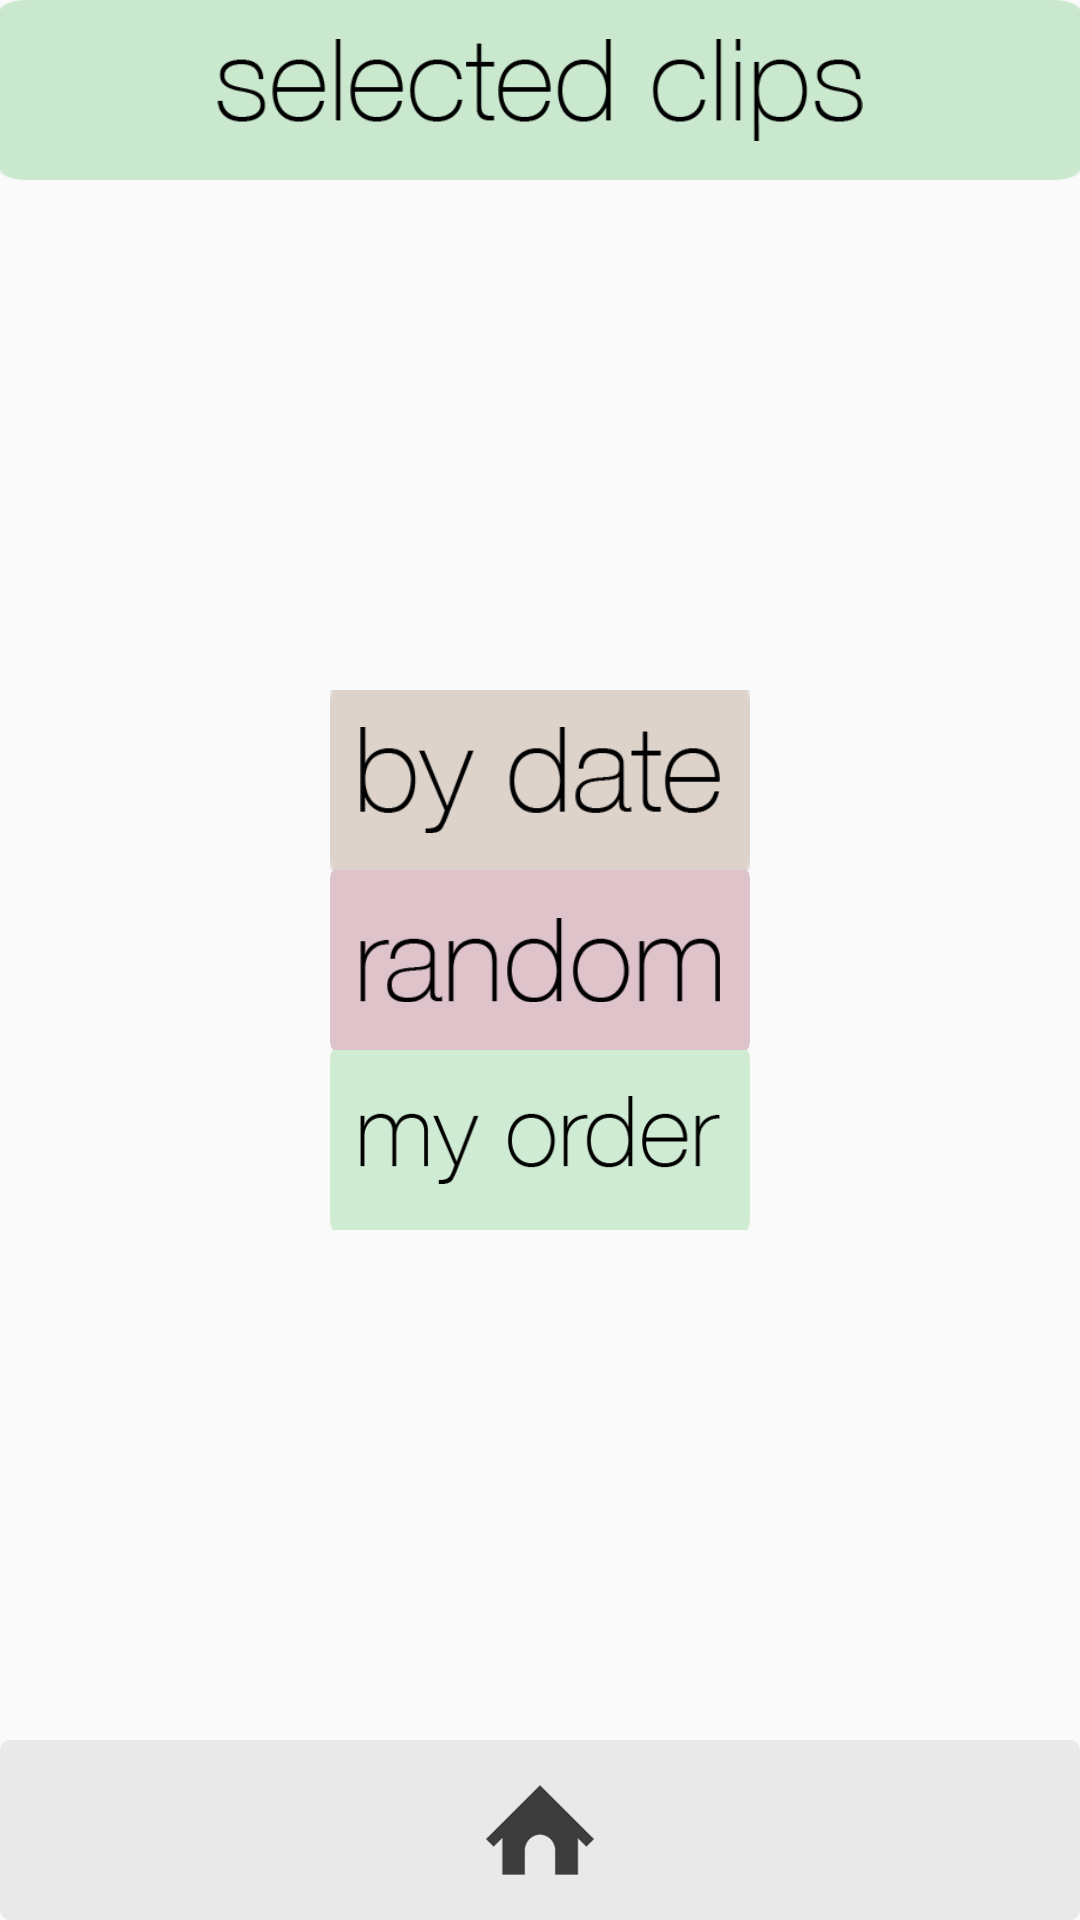

Named icons in this screenshot (1080×1920) and their bounding boxes, (x1, y1, x2, y2):
home: (486, 1785, 594, 1875)
